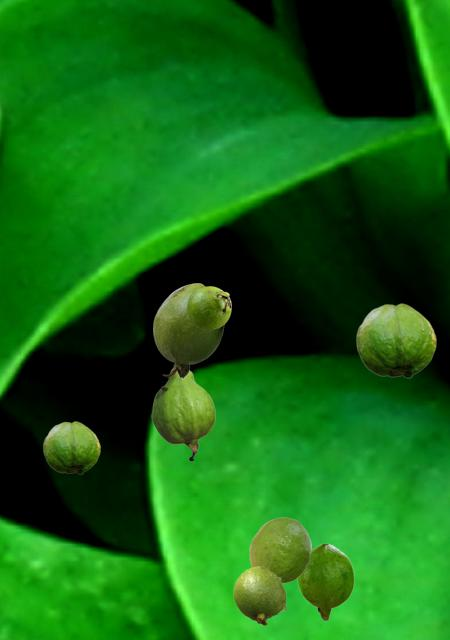guava: (153, 283, 223, 377), (356, 303, 435, 377), (151, 369, 214, 460), (297, 543, 353, 620), (249, 517, 310, 583), (233, 566, 285, 624), (43, 421, 99, 473), (187, 286, 230, 328)
